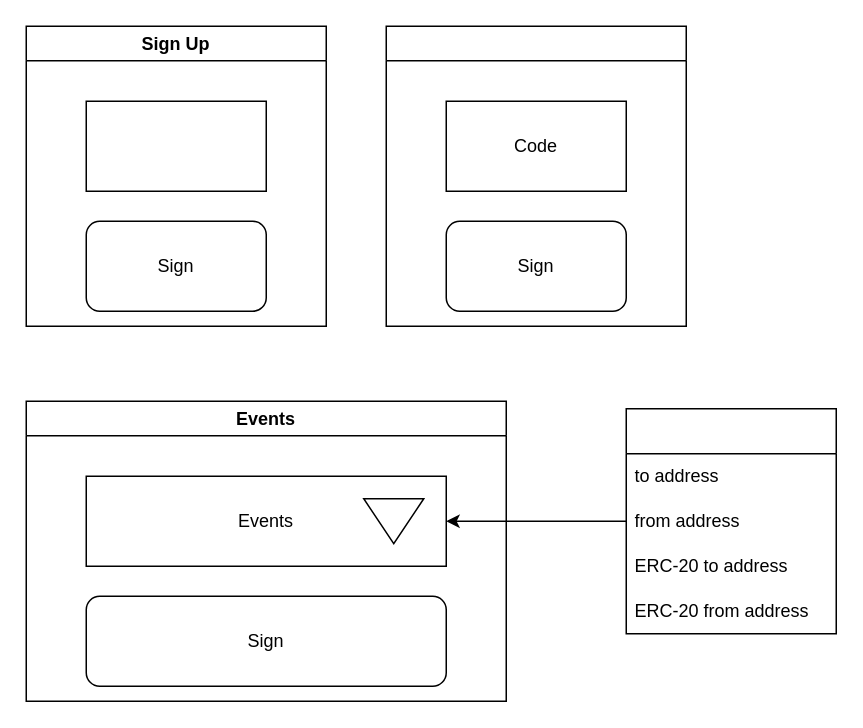
The diagram is 863 pixels wide and 728 high, and some of its shapes have lost their labels. The shapes that lost their labels are listed below. From the top down, each one's box as (x1, y1, x2, y2) in pixels, then its label:
(85, 100, 266, 191): Phone
(385, 25, 686, 326): Verify Phone
(625, 407, 836, 634): Events Drop-Down
